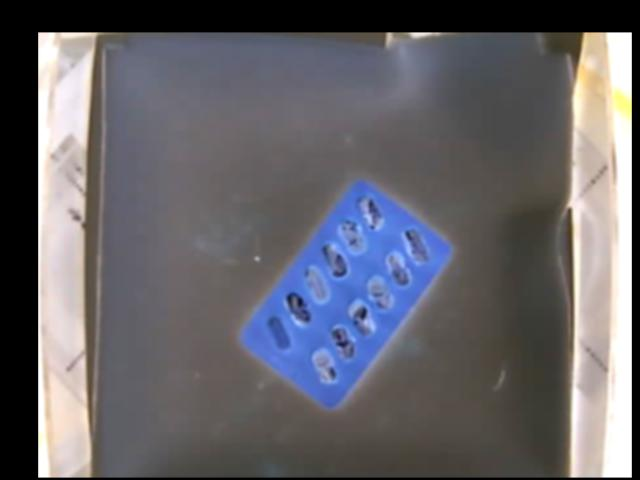Medicine: (236, 178, 448, 408)
